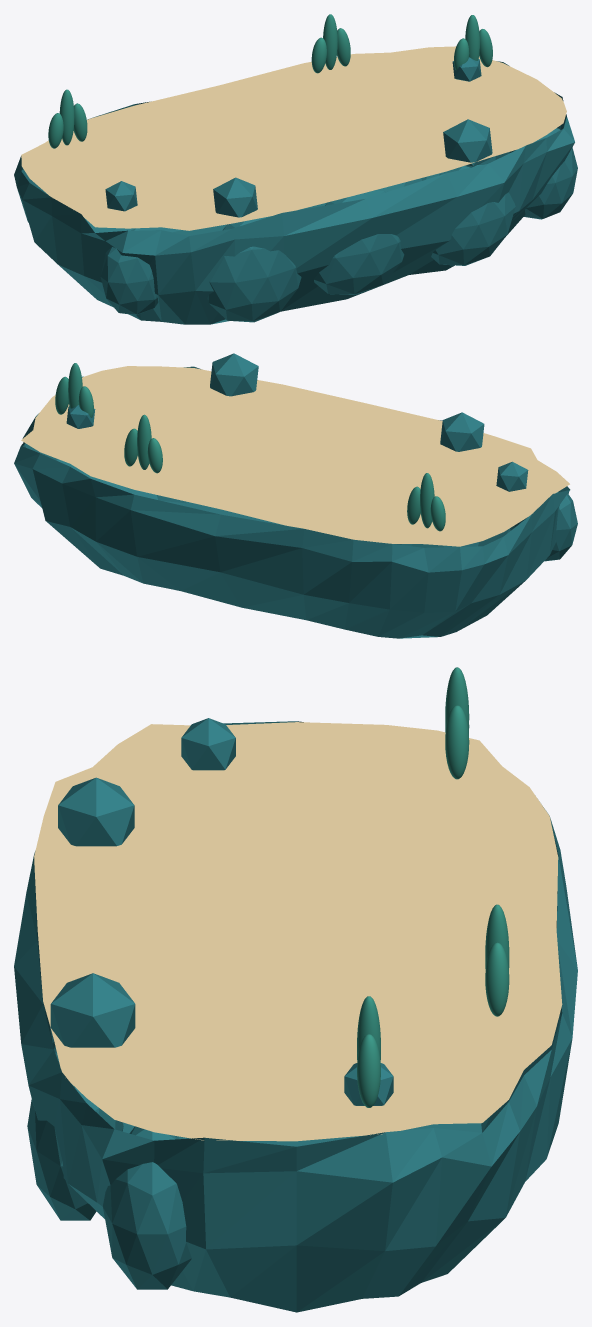
File: island.glb
3 renders of one model, top to bottom at view 1: azimuth 30°, elevation 25°; view 2: azimuth 150°, elevation 25°; view 3: azimuth 270°, elevation 25°, orthographic. The views are drawn at different scales.
Parts seen in each view (by area): view 1: Sandy island top, Faceted rocky island, Cliff boulder.001, Cliff boulder.002, Cliff boulder.003, Cliff boulder, Cliff boulder.004, Faceted stone.002, Faceted stone.001, Faceted stone, Kelp leaf.001, Kelp leaf.004 (+7 smaller); view 2: Sandy island top, Faceted rocky island, Faceted stone.002, Faceted stone.001, Cliff boulder, Faceted stone, Kelp leaf.001, Kelp leaf.004, Kelp leaf.007, Faceted stone.003, Kelp leaf, Kelp leaf.003 (+3 smaller); view 3: Sandy island top, Faceted rocky island, Cliff boulder.004, Faceted stone.002, Faceted stone.001, Cliff boulder.003, Faceted stone, Kelp leaf.005, Kelp leaf.002, Kelp leaf.008, Faceted stone.003, Kelp leaf.004 (+2 smaller).
Part boxes in pixels (box(x1,y1,x2,y2)): Sandy island top: box(21, 46, 566, 230); Faceted rocky island: box(14, 61, 574, 324); Cliff boulder.001: box(207, 216, 301, 322); Cliff boulder.002: box(314, 190, 404, 294); Cliff boulder.003: box(431, 165, 515, 265); Cliff boulder: box(100, 228, 158, 315); Cliff boulder.004: box(509, 128, 577, 219); Faceted stone.002: box(443, 119, 492, 167); Faceted stone.001: box(213, 177, 257, 217); Faceted stone: box(105, 181, 137, 211); Kelp leaf.001: box(59, 89, 74, 145); Kelp leaf.004: box(323, 14, 337, 69); Sandy island top: box(21, 366, 569, 546); Faceted rocky island: box(14, 366, 570, 638); Faceted stone.002: box(210, 353, 258, 396); Faceted stone.001: box(440, 412, 484, 451); Cliff boulder: box(510, 492, 577, 561); Faceted stone: box(496, 461, 528, 491); Kelp leaf.001: box(420, 473, 434, 528); Kelp leaf.004: box(137, 414, 151, 469); Kelp leaf.007: box(68, 363, 82, 408); Faceted stone.003: box(66, 405, 95, 428); Kelp leaf: box(430, 496, 445, 531); Kelp leaf.003: box(147, 438, 162, 473); Sandy island top: box(34, 722, 562, 1141); Faceted rocky island: box(14, 721, 577, 1312); Cliff boulder.004: box(102, 1126, 191, 1289); Faceted stone.002: box(50, 973, 135, 1047); Faceted stone.001: box(58, 777, 134, 846); Cliff boulder.003: box(27, 1041, 123, 1220); Faceted stone: box(181, 718, 235, 770); Kelp leaf.005: box(485, 942, 509, 1016); Kelp leaf.002: box(445, 705, 469, 779); Kelp leaf.008: box(357, 1034, 380, 1107); Faceted stone.003: box(344, 1063, 393, 1105); Kelp leaf.004: box(485, 904, 509, 967).
Size of the model in its own units: 6.25 by 2.21 by 3.52.
